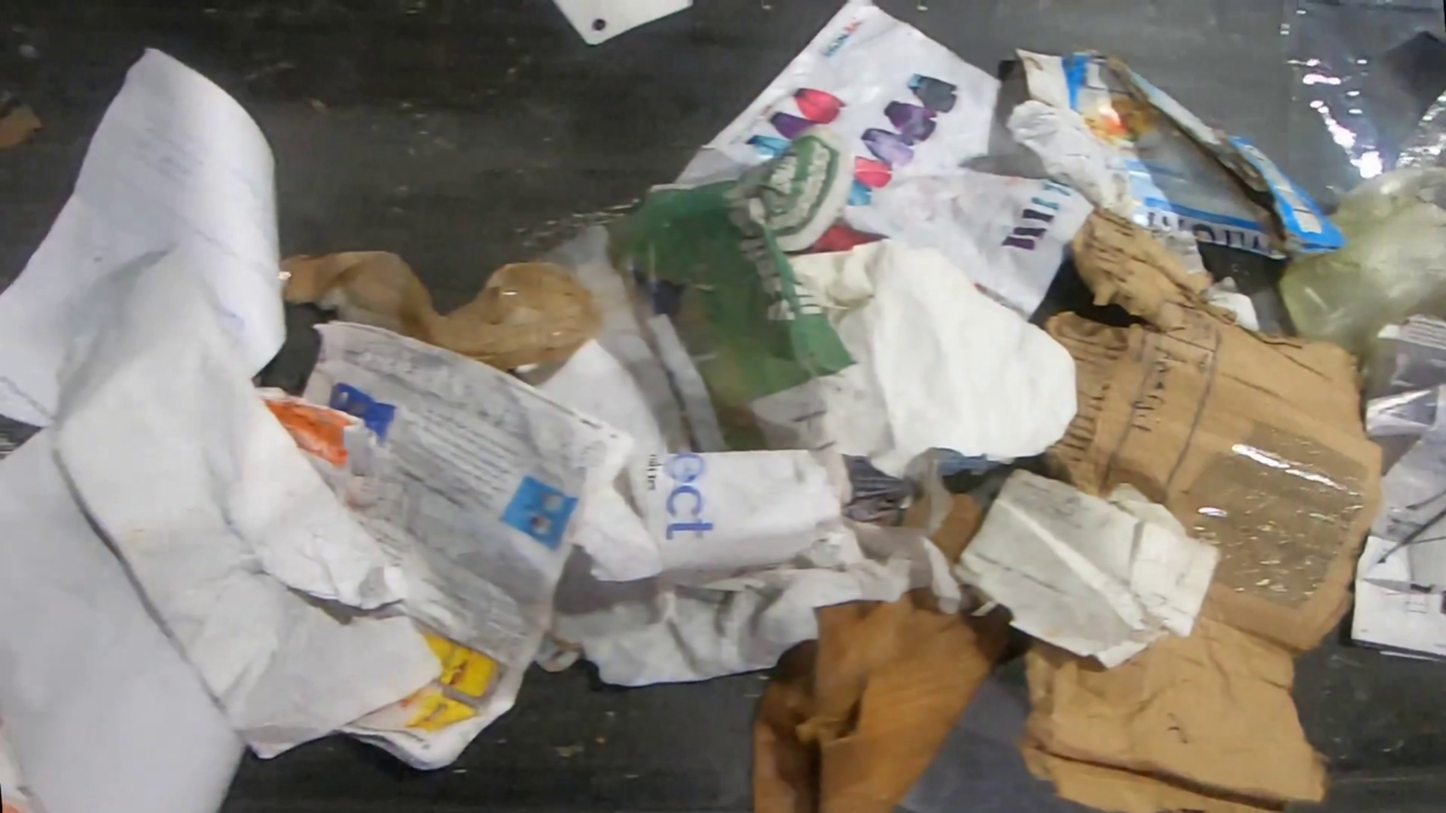cardboard: (1012, 207, 1383, 813), (1003, 44, 1351, 262)
plastic: (1275, 166, 1446, 479), (275, 248, 606, 373), (1274, 0, 1446, 215)
